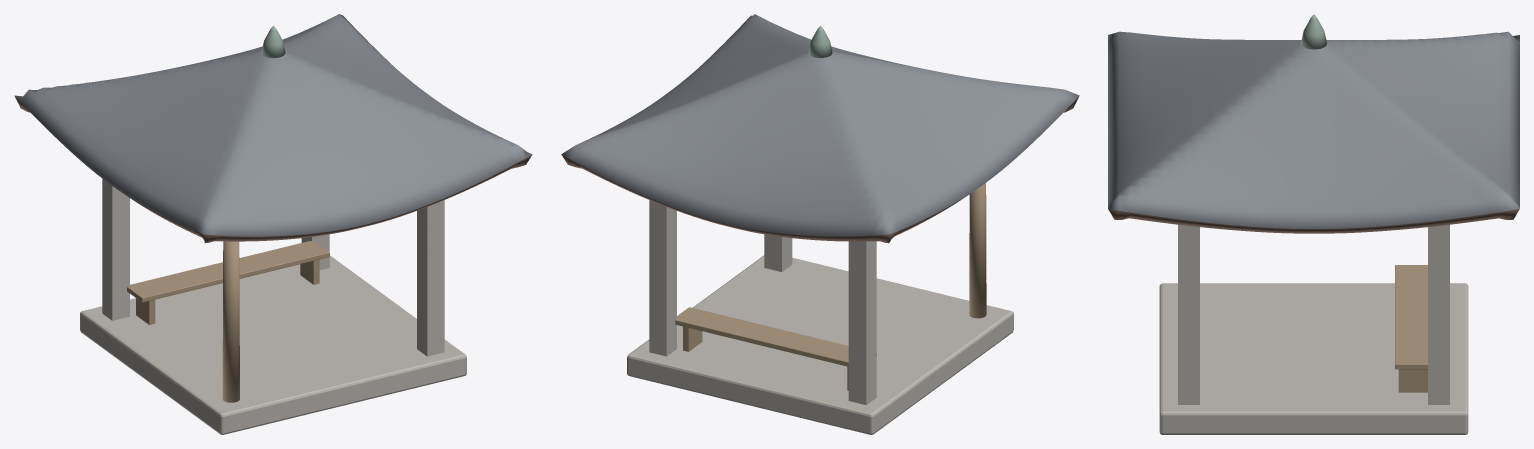
File: azumaya.glb
The picture shows the model from 3 angles, left to right: view 1: azimuth 30°, elevation 25°; view 2: azimuth 150°, elevation 25°; view 3: azimuth 270°, elevation 25°; orthographic projection. The views are drawn at different scales.
Visible parts, largest first — view 1: azumaya, post-colonly.002, post-colonly.001; view 2: azumaya, post-colonly.001, post-colonly.003, post-colonly.002; view 3: azumaya, post-colonly.002, post-colonly.003.
Part boxes in pixels (x1,y1,x2,y2): azumaya: [14, 14, 532, 434]; post-colonly.002: [417, 200, 444, 356]; post-colonly.001: [102, 179, 129, 320]; azumaya: [561, 14, 1079, 434]; post-colonly.001: [848, 241, 876, 405]; post-colonly.003: [649, 200, 676, 356]; post-colonly.002: [764, 234, 792, 271]; azumaya: [1108, 14, 1519, 434]; post-colonly.002: [1178, 224, 1199, 404]; post-colonly.003: [1428, 224, 1449, 404].
Size of what is drawn, in the model's own units: 5.6 by 5.35 by 5.6.
